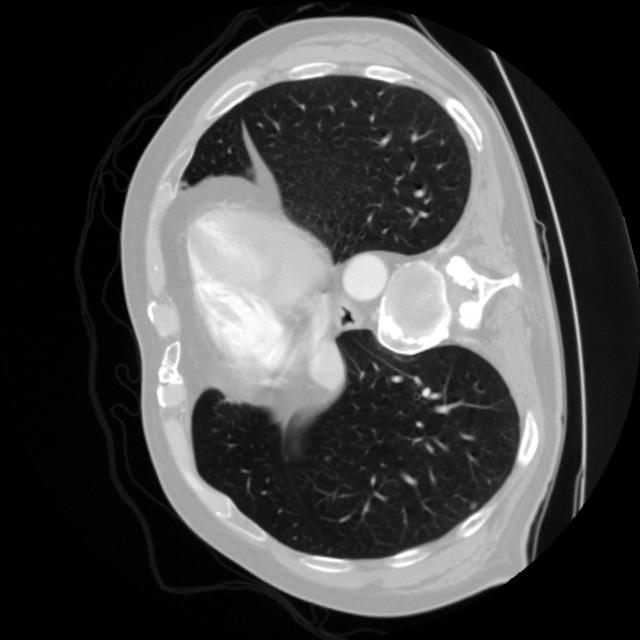nodule: (460, 494, 484, 518)
